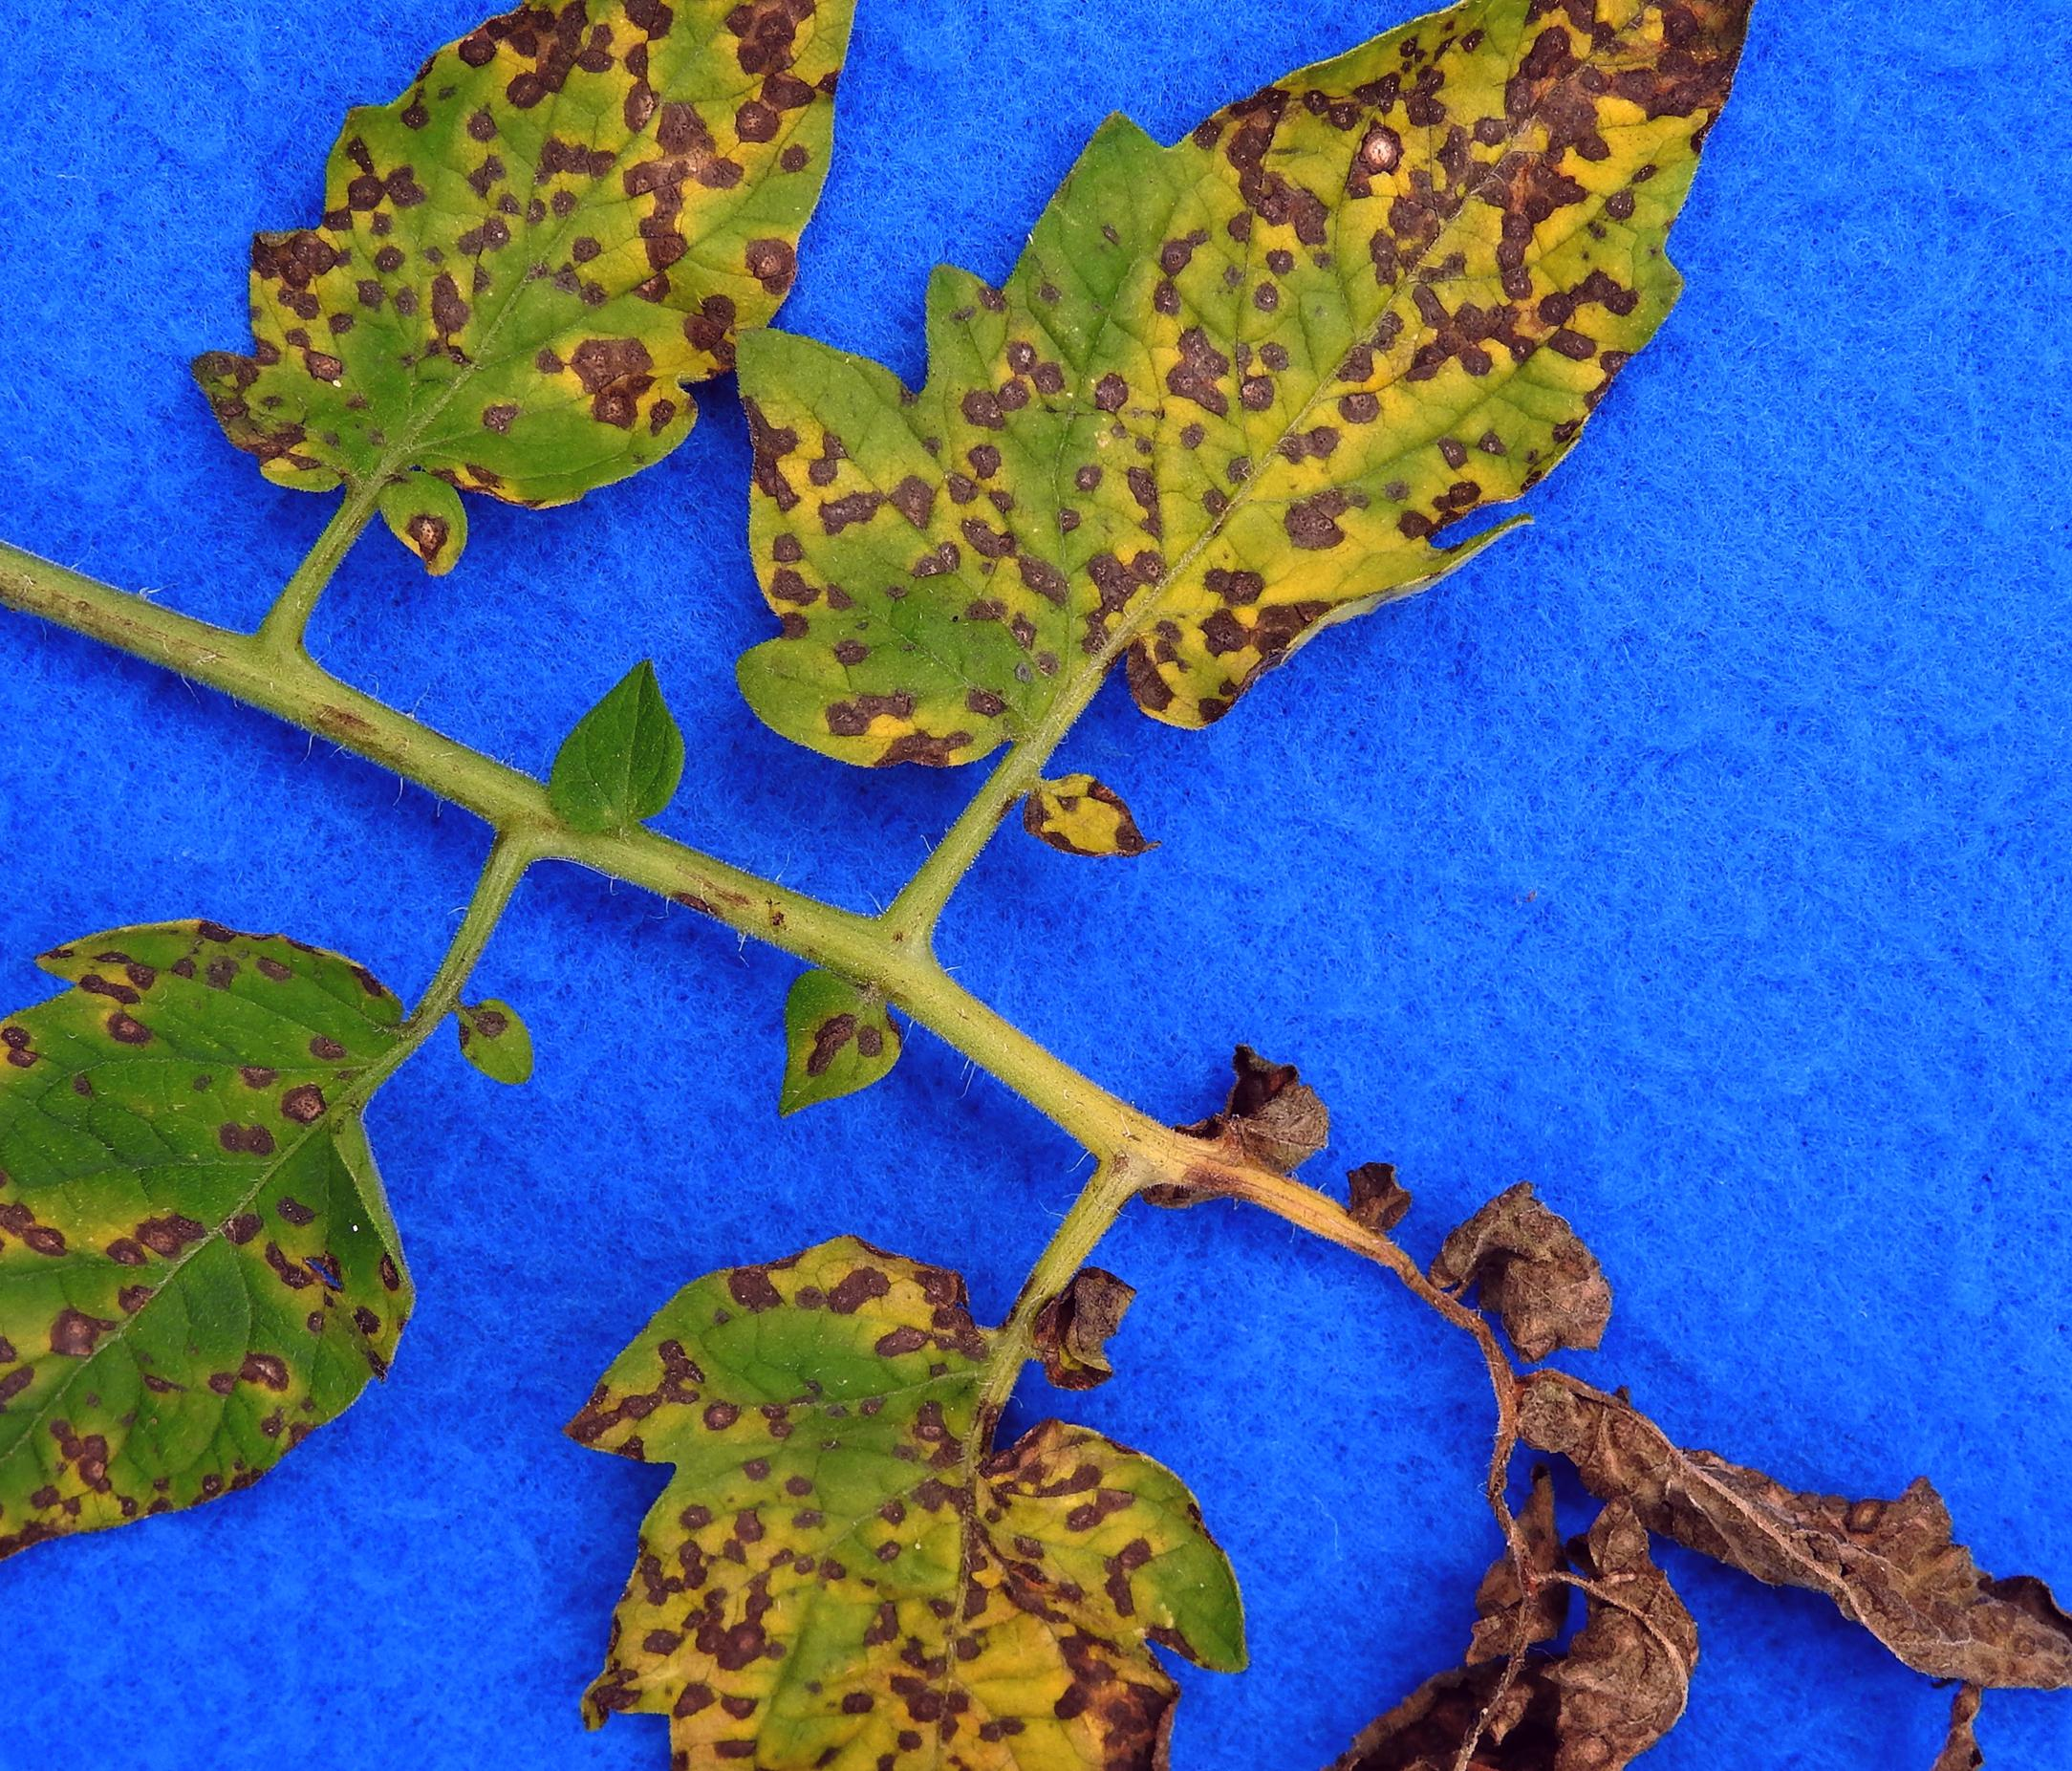Tomato Septoria leaf spot: (734, 0, 1864, 825), (570, 1242, 1306, 1771), (200, 0, 867, 575), (0, 849, 457, 1679)
